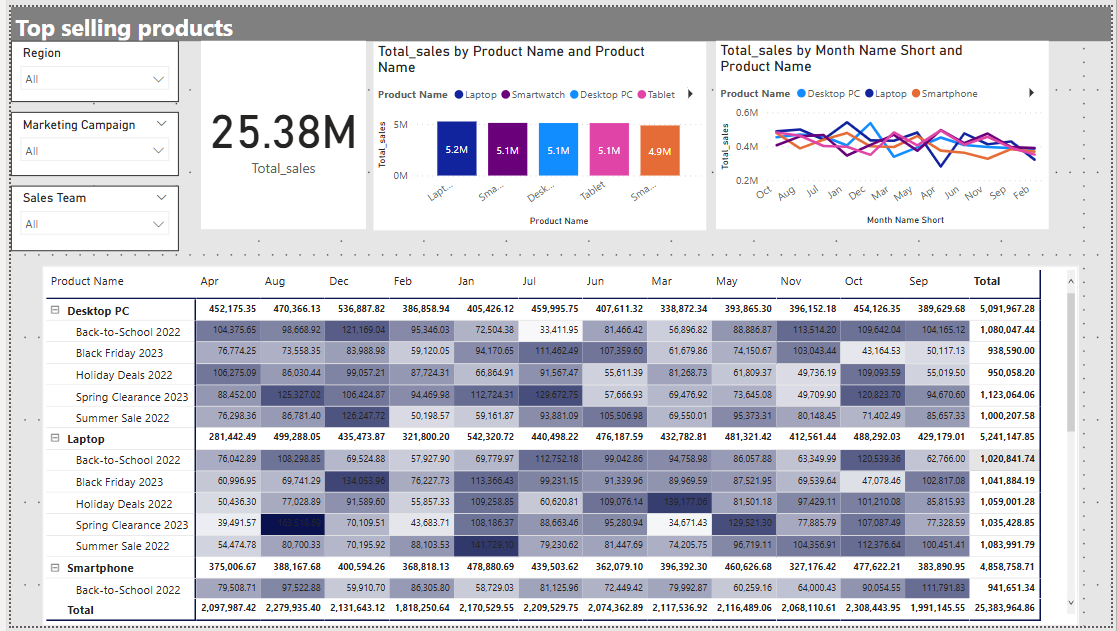

What the dashboard file says about the page in this screenshot:
{"tool":"powerbi","page":{"name":"Page 1","canvas":[1280,720],"ordinal":0},"visuals":[{"type":"shape","box":[0,0,1280.3,39.8],"z":0},{"type":"textbox","box":[0,0,1280.3,149.6],"z":1000},{"type":"slicer","fields":{"Values":["ExampleData_TopSellingProducts.Region"]},"box":[0,39.3,195.2,71.4],"z":2000},{"type":"slicer","fields":{"Values":["ExampleData_TopSellingProducts.Marketing Campaign"]},"box":[0,122.3,195.2,74.3],"z":3000},{"type":"slicer","fields":{"Values":["ExampleData_TopSellingProducts.Sales Team"]},"box":[0,208.3,195.2,75.7],"z":4000},{"type":"card","fields":{"Values":["ExampleData_TopSellingProducts.Total_sales"]},"box":[220.8,39,192,219.4],"z":5000},{"type":"columnChart","fields":{"Category":["ExampleData_TopSellingProducts.Product Name"],"Y":["ExampleData_TopSellingProducts.Total_sales"],"Series":["ExampleData_TopSellingProducts.Product Name"]},"box":[421.5,40.4,386.8,219.4],"z":6000},{"type":"lineChart","fields":{"Y":["ExampleData_TopSellingProducts.Total_sales"],"Category":["Date.Month Name Short"],"Series":["ExampleData_TopSellingProducts.Product Name"]},"box":[819.8,39,386.8,219.4],"z":7000},{"type":"pivotTable","fields":{"Rows":["ExampleData_TopSellingProducts.Product Name","ExampleData_TopSellingProducts.Marketing Campaign"],"Values":["ExampleData_TopSellingProducts.Total_sales"],"Columns":["Date.Month Name Short"]},"box":[36.1,301.7,1206.7,418.6],"z":8000}]}

Visuals, with their boxes in screenshot pixels (x1, y1, x2, y2), scaled from the page's 1280x720 canvas onto the 1117x631 screenshot:
shape: pyautogui.locateOnScreen(0, 0, 1116, 35)
textbox: pyautogui.locateOnScreen(0, 0, 1116, 131)
slicer - ExampleData_TopSellingProducts.Region: pyautogui.locateOnScreen(0, 34, 170, 97)
slicer - ExampleData_TopSellingProducts.Marketing Campaign: pyautogui.locateOnScreen(0, 107, 170, 172)
slicer - ExampleData_TopSellingProducts.Sales Team: pyautogui.locateOnScreen(0, 183, 170, 249)
card - ExampleData_TopSellingProducts.Total_sales: pyautogui.locateOnScreen(193, 34, 360, 226)
columnChart - ExampleData_TopSellingProducts.Product Name x ExampleData_TopSellingProducts.Total_sales: pyautogui.locateOnScreen(368, 35, 705, 228)
lineChart - ExampleData_TopSellingProducts.Total_sales x Date.Month Name Short: pyautogui.locateOnScreen(715, 34, 1053, 226)
pivotTable - ExampleData_TopSellingProducts.Product Name x ExampleData_TopSellingProducts.Marketing Campaign: pyautogui.locateOnScreen(32, 264, 1085, 630)
